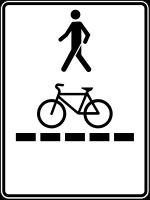Cycle Crossing: (11, 7, 138, 157)
